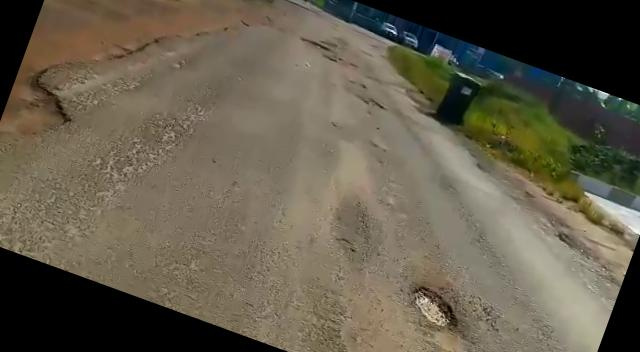pothole: (399, 279, 474, 339), (363, 96, 388, 110)
